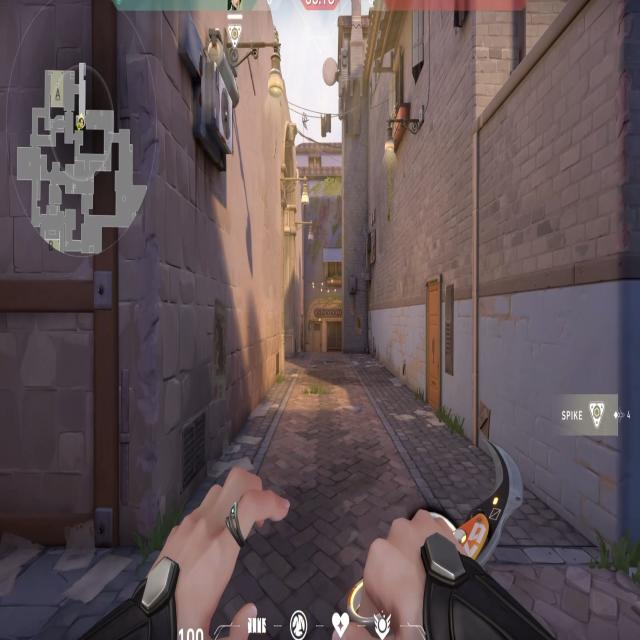Wine: (313, 300, 373, 358)
